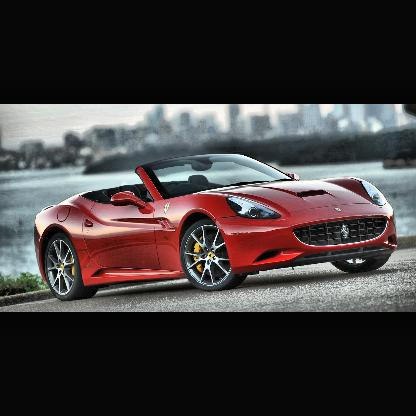Ferrari California Convertible 2012: (35, 152, 399, 302)
